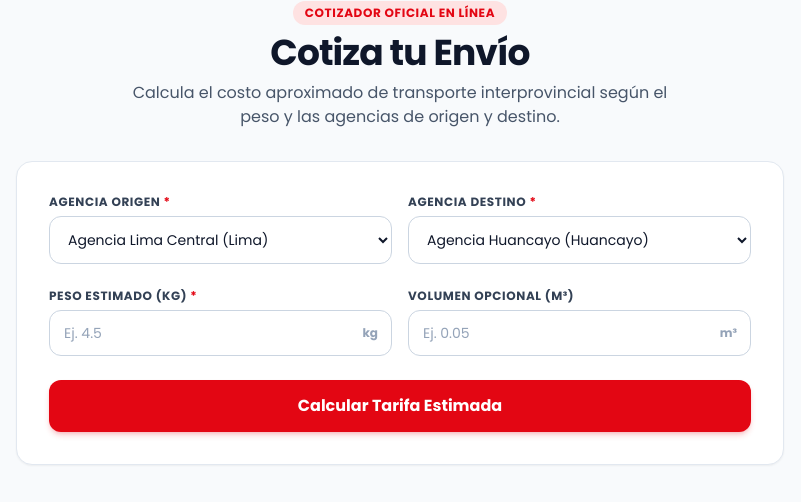
Página de Cotización (Cotiza.tsx) › carga sucursales y valida peso obligatorio y mayor a 0
Check: the dropdown labelled "Agencia Origen *" is shown, box [49,216,392,264]
Step 1. Click the button "Calcular Tarifa Estimada" → (400, 406), box [49,380,751,432]
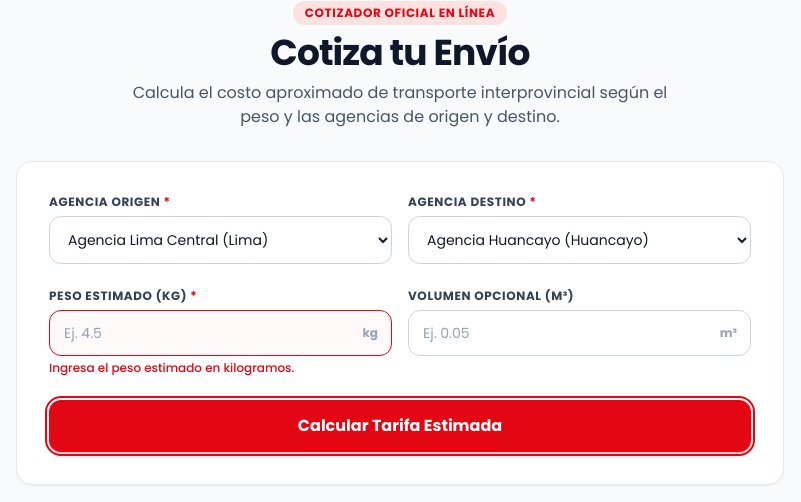
Check: the text "Ingresa el peso estimado en kilogramos." is shown, box [49,359,294,376]
# Peso inválido 0 o negativo
Step 2. Type "0" into the number field labelled "Peso Estimado (kg) *" → (220, 333), box [49,310,392,356]
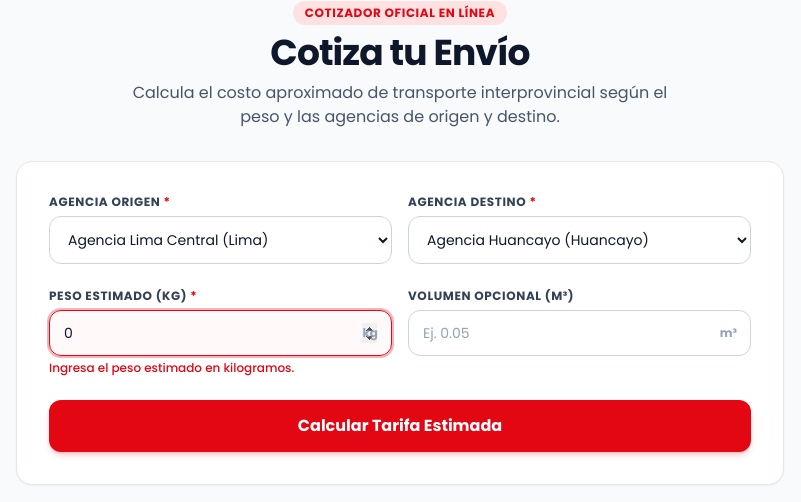
Step 3. Click the button "Calcular Tarifa Estimada" → (400, 426), box [49,400,751,452]
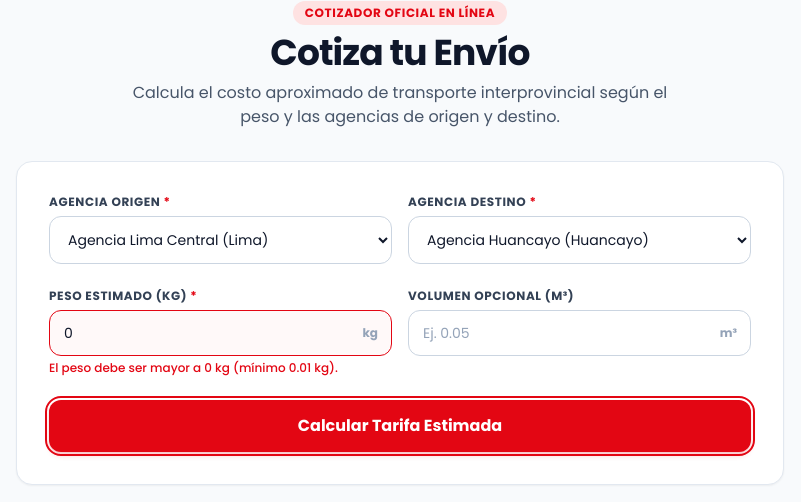
Check: the text "El peso debe ser mayor a 0 kg (mínimo 0.01 kg)." is shown, box [49,359,338,376]
